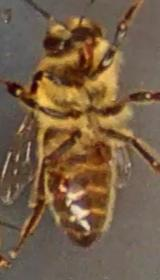varroa_mite: (48, 170, 72, 197)
